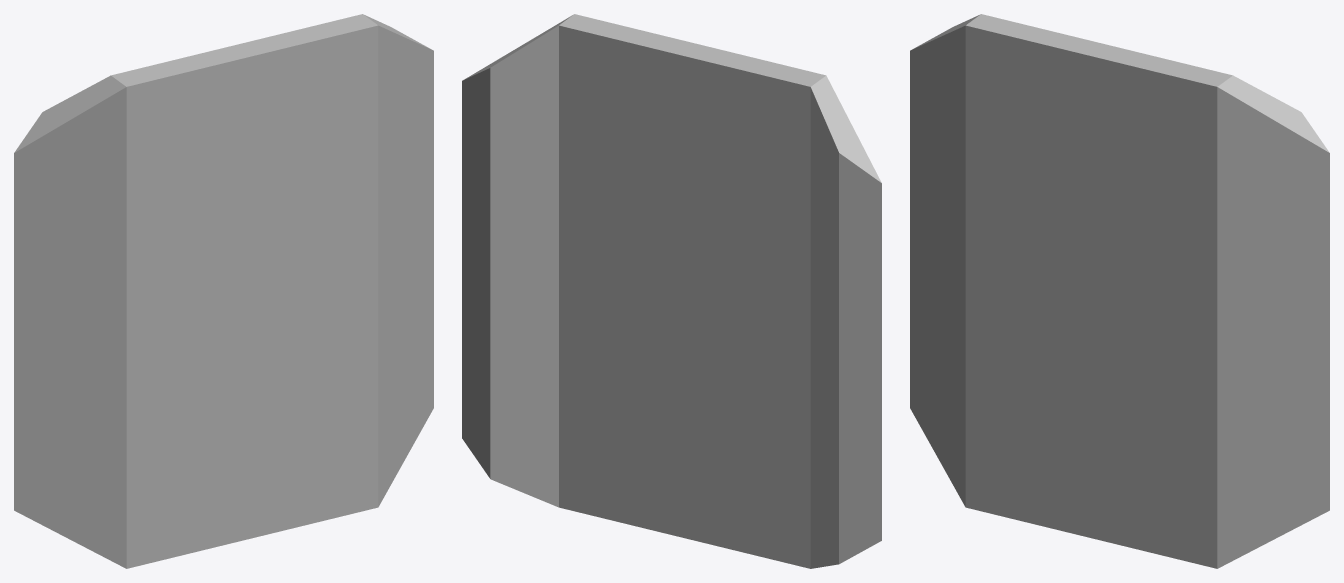
Rendered from riotshield.fbx.
3 views of the same model, side by side, from view 1: azimuth 30°, elevation 25°; view 2: azimuth 150°, elevation 25°; view 3: azimuth 330°, elevation 25° (orthographic).
Parts seen in each view (by area): view 1: shield; view 2: shield; view 3: shield.
Part boxes in pixels (x1,y1,x2,y2): shield: (14, 14, 433, 568); shield: (462, 14, 881, 568); shield: (910, 14, 1329, 568).
Size of the model in its own units: 1 by 1.1 by 0.1473.
Materials: 1 (1 with a texture image).
